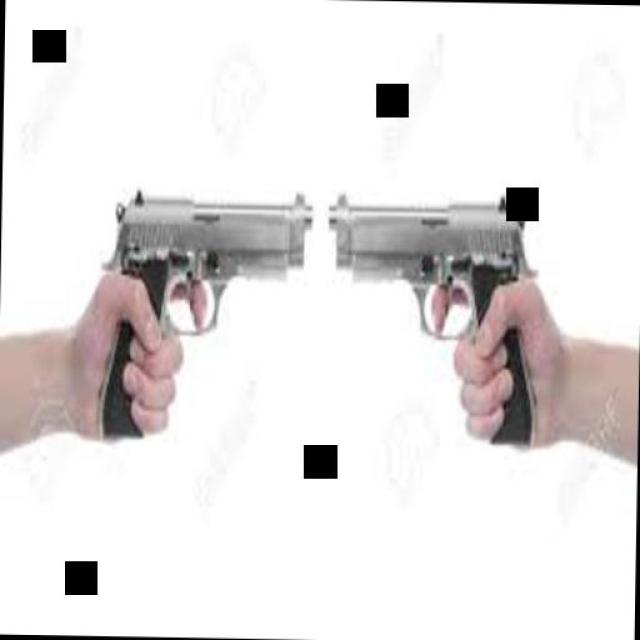gun: (91, 165, 311, 471), (325, 177, 539, 455)
